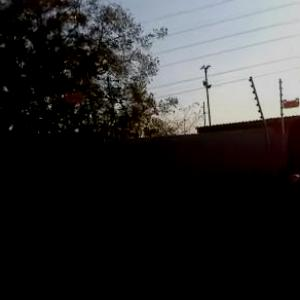follow: (282, 46, 300, 299)
